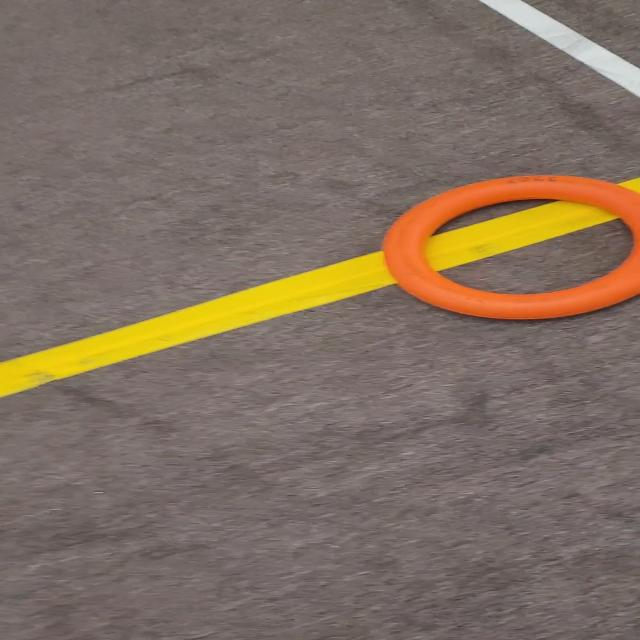note: (373, 169, 640, 331)
